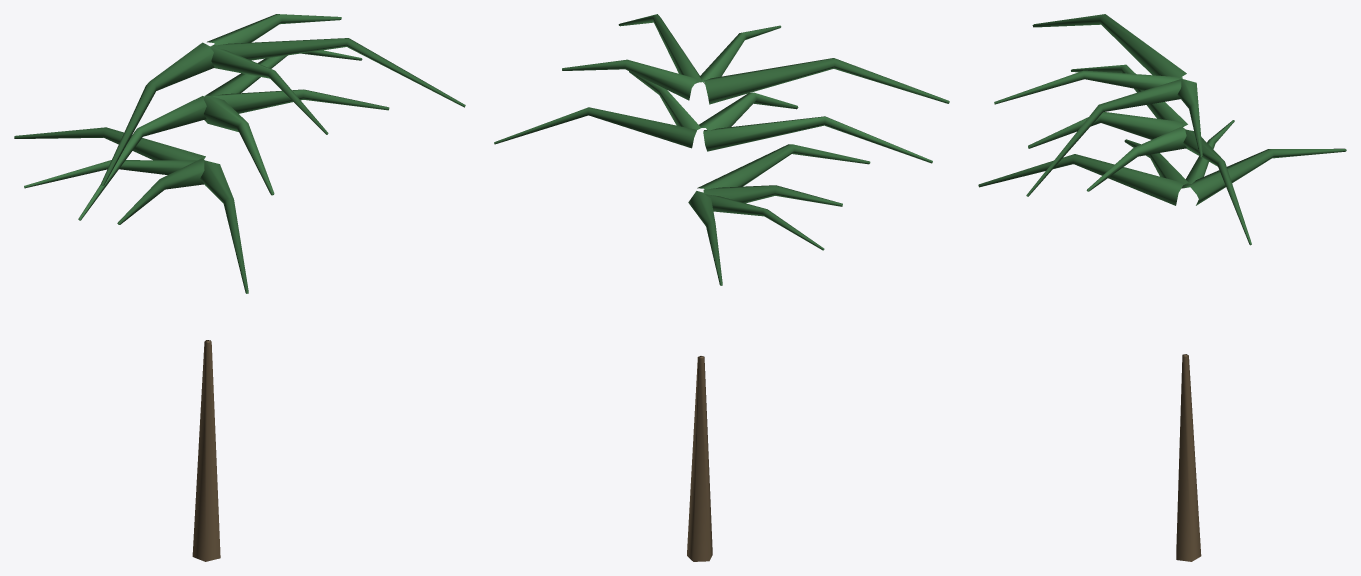
The model's file is field_pine_a_lod2.glb.
3 views of the same model, side by side, from view 1: azimuth 30°, elevation 25°; view 2: azimuth 150°, elevation 25°; view 3: azimuth 270°, elevation 25° (orthographic). The views are drawn at different scales.
Visible parts, largest first — view 1: foliage, bark; view 2: foliage, bark; view 3: foliage, bark.
Boxes of the visible parts, <box> form: foliage: <box>14,14,465,293</box>; bark: <box>192,340,220,561</box>; foliage: <box>494,14,949,285</box>; bark: <box>687,356,712,561</box>; foliage: <box>978,14,1346,245</box>; bark: <box>1176,354,1201,561</box>.
Bounding box in the file's own units: 4.42 × 5.93 × 3.99.
